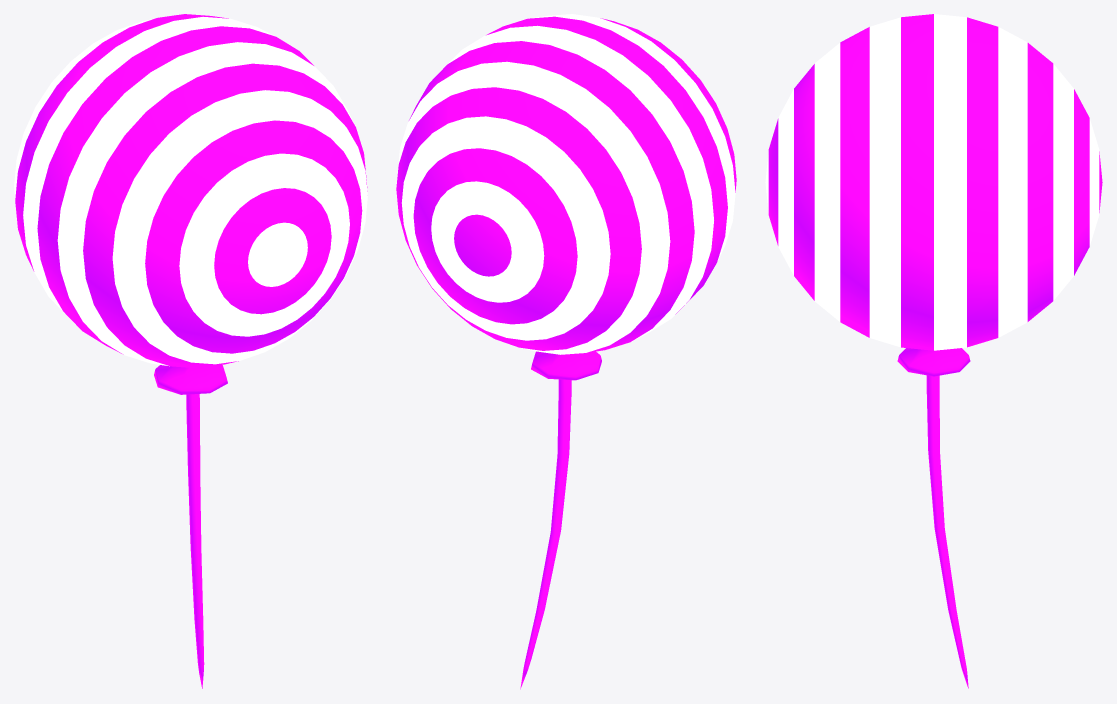
Rendered from violetBalloon.glb.
3 renders of one model, left to right at view 1: azimuth 30°, elevation 25°; view 2: azimuth 150°, elevation 25°; view 3: azimuth 270°, elevation 25°, orthographic. The views are drawn at different scales.
Visible parts, largest first — view 1: violetBalloon, Balloon-tail.001; view 2: violetBalloon, Balloon-tail.001; view 3: violetBalloon, Balloon-tail.001.
Boxes of the visible parts, <box> form: violetBalloon: <box>14,14,367,394</box>; Balloon-tail.001: <box>186,394,204,688</box>; violetBalloon: <box>396,14,736,380</box>; Balloon-tail.001: <box>520,379,571,689</box>; violetBalloon: <box>765,14,1102,376</box>; Balloon-tail.001: <box>926,375,968,688</box>.
Size of what is drawn, in the model's own units: 2 by 4.23 by 2.
